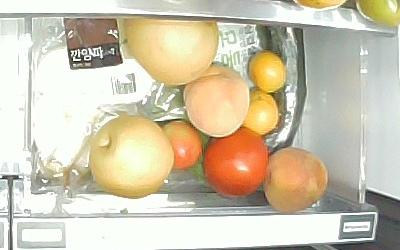peach: (181, 64, 251, 139), (263, 146, 330, 214)
pear: (87, 113, 175, 199), (122, 15, 220, 88)
tangerine: (241, 92, 280, 137), (248, 50, 286, 92)
tomato: (201, 123, 272, 197), (159, 118, 204, 171)
